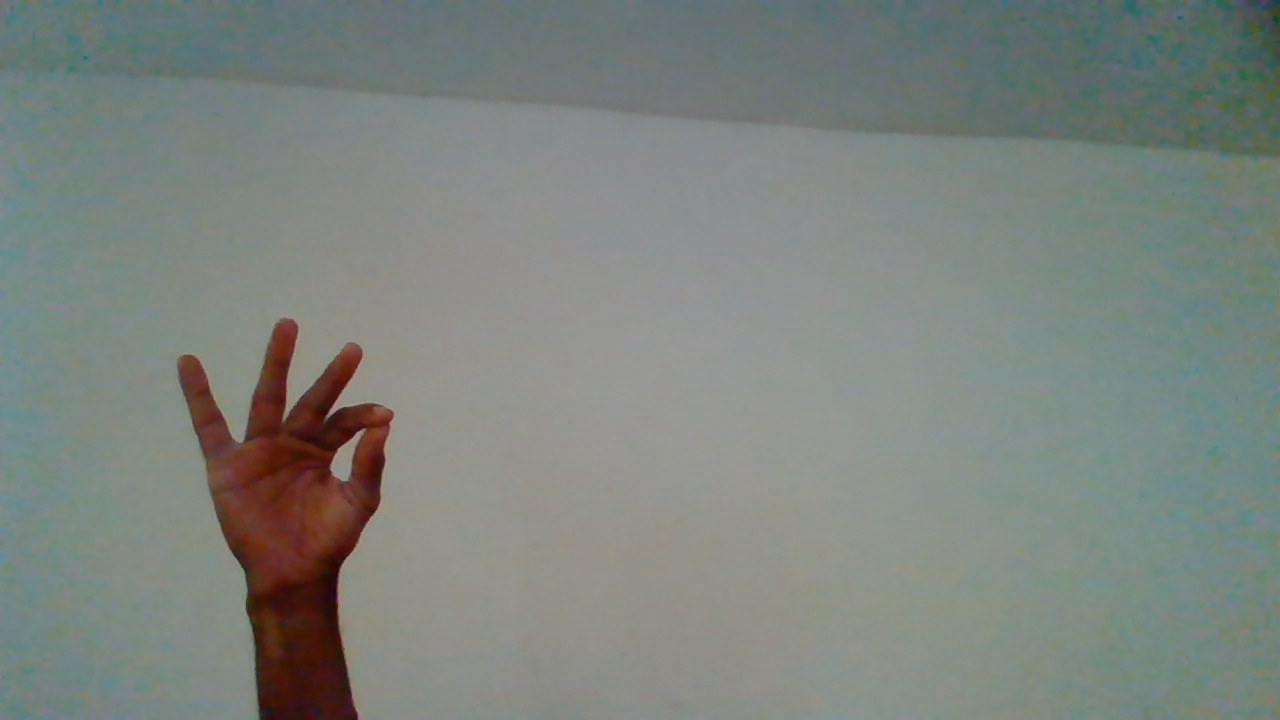le: (179, 324, 384, 705)
